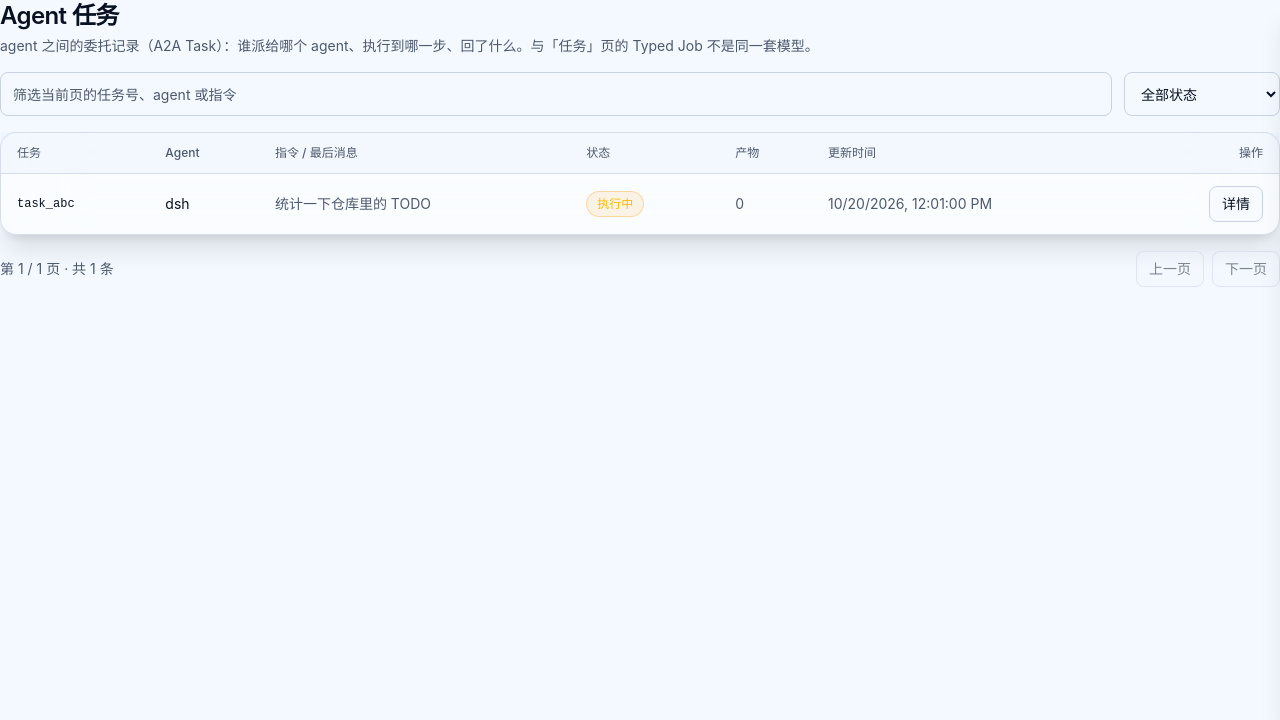
Test case: AgentTasksPage › 取消失败时回显安全文案，不静默吞掉
The image size is (1280, 720).
Expected: the text "task_abc" is shown, [1,174,149,234]
Step 1. Click the button "详情" → (1236, 204), box [1209,186,1263,222]
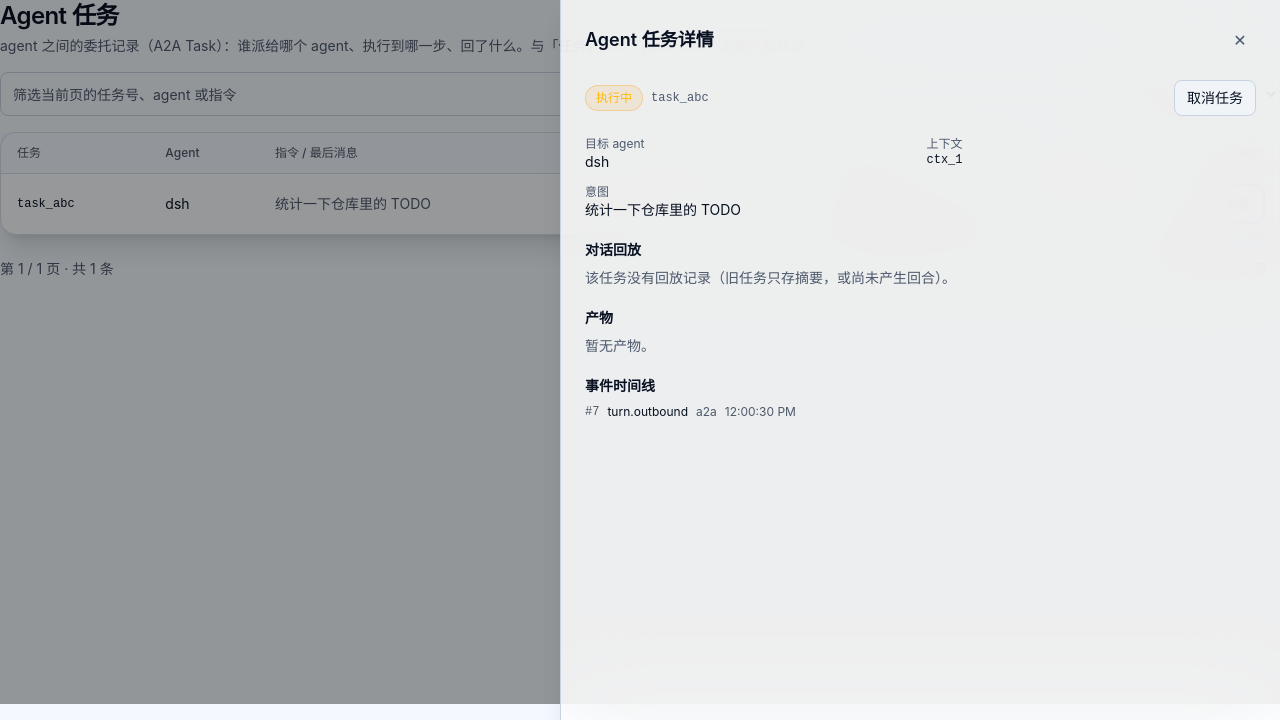
Step 2. Click the button "取消任务" → (1215, 98), box [1174,80,1256,116]
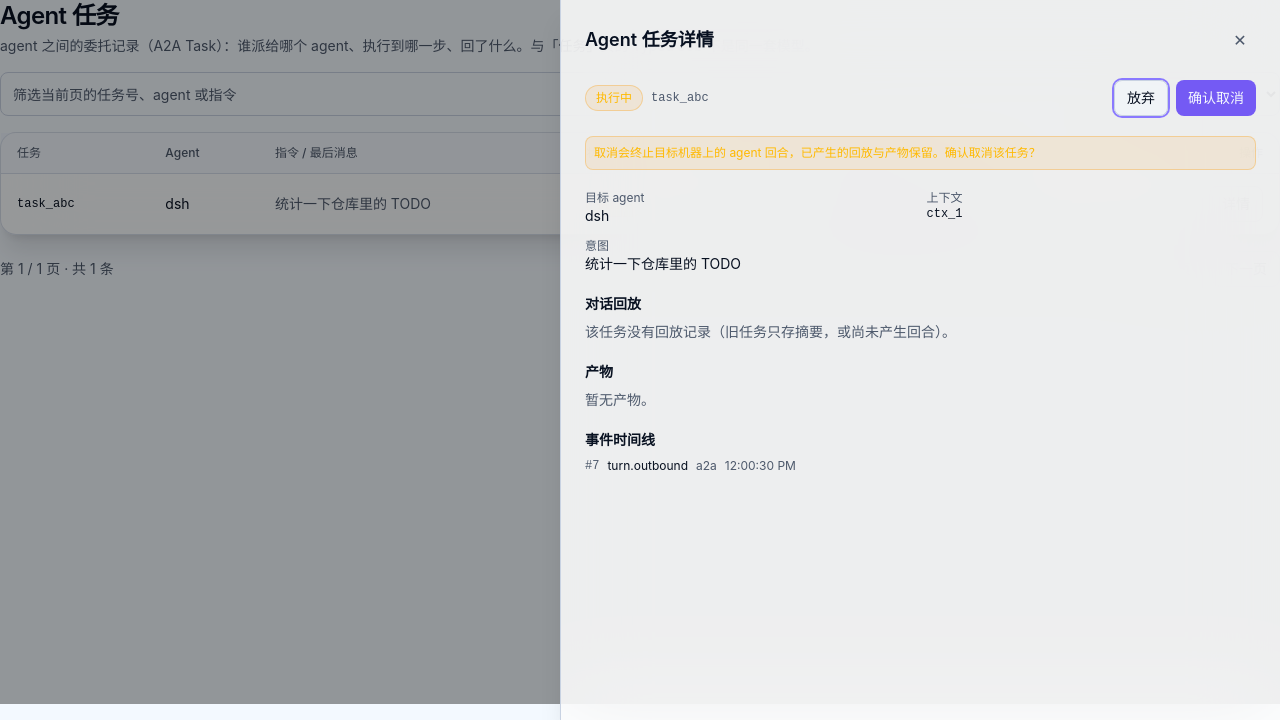
Step 3. Click the button "确认取消" → (1216, 98), box [1176,80,1256,116]
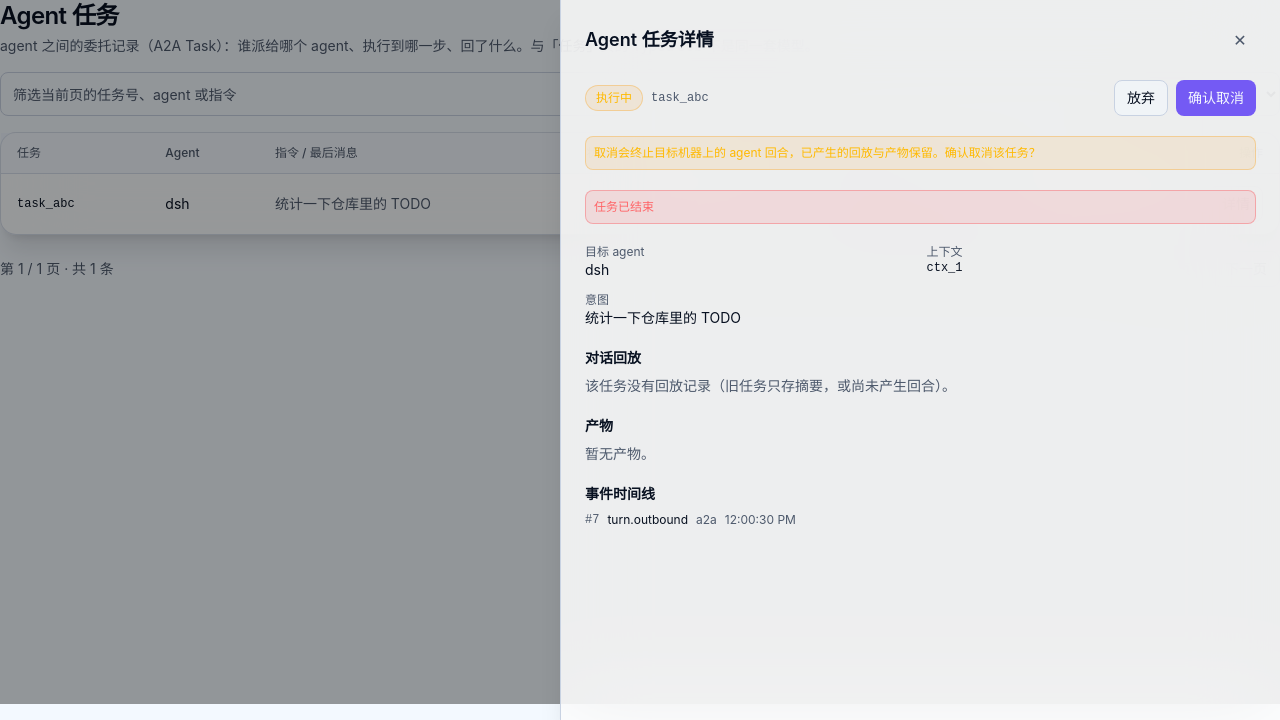
Now the text "任务已结束" is shown, box [585,190,1256,224]
